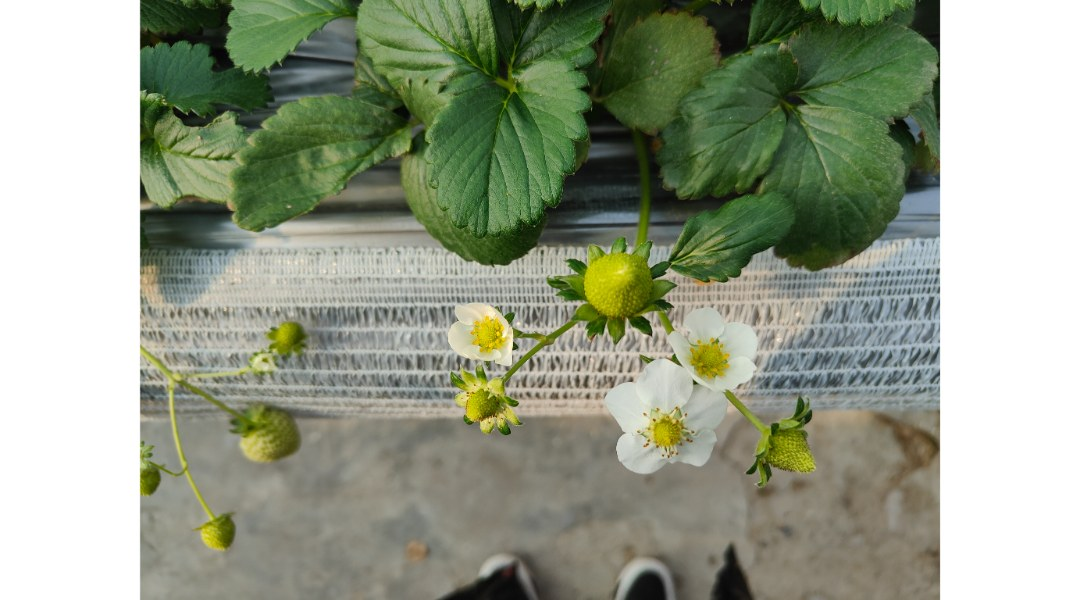berry: (550, 234, 669, 348), (750, 409, 840, 491), (447, 367, 528, 447), (224, 397, 308, 474), (264, 312, 326, 355), (186, 512, 240, 556), (130, 440, 171, 491)
flower: (600, 363, 715, 489), (669, 304, 766, 402), (440, 302, 524, 378)
strain: (121, 339, 224, 412), (159, 390, 209, 500), (634, 120, 657, 238)
